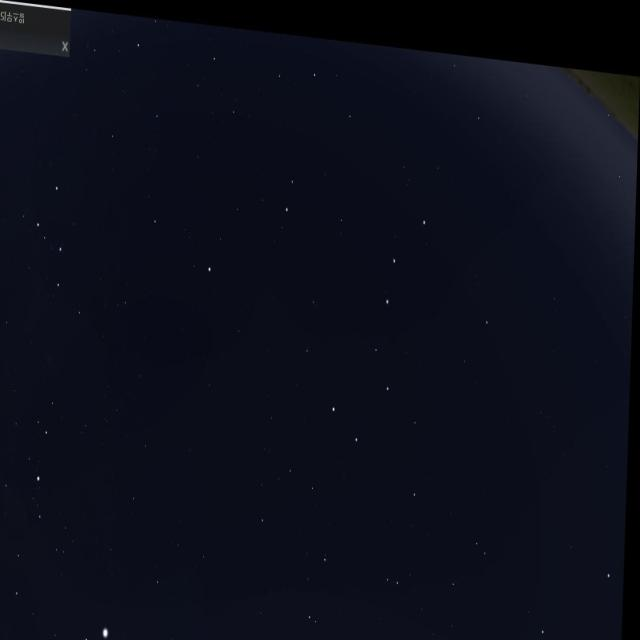cassiopeia: (22, 158, 112, 338)
ursa_major: (333, 158, 439, 454)
